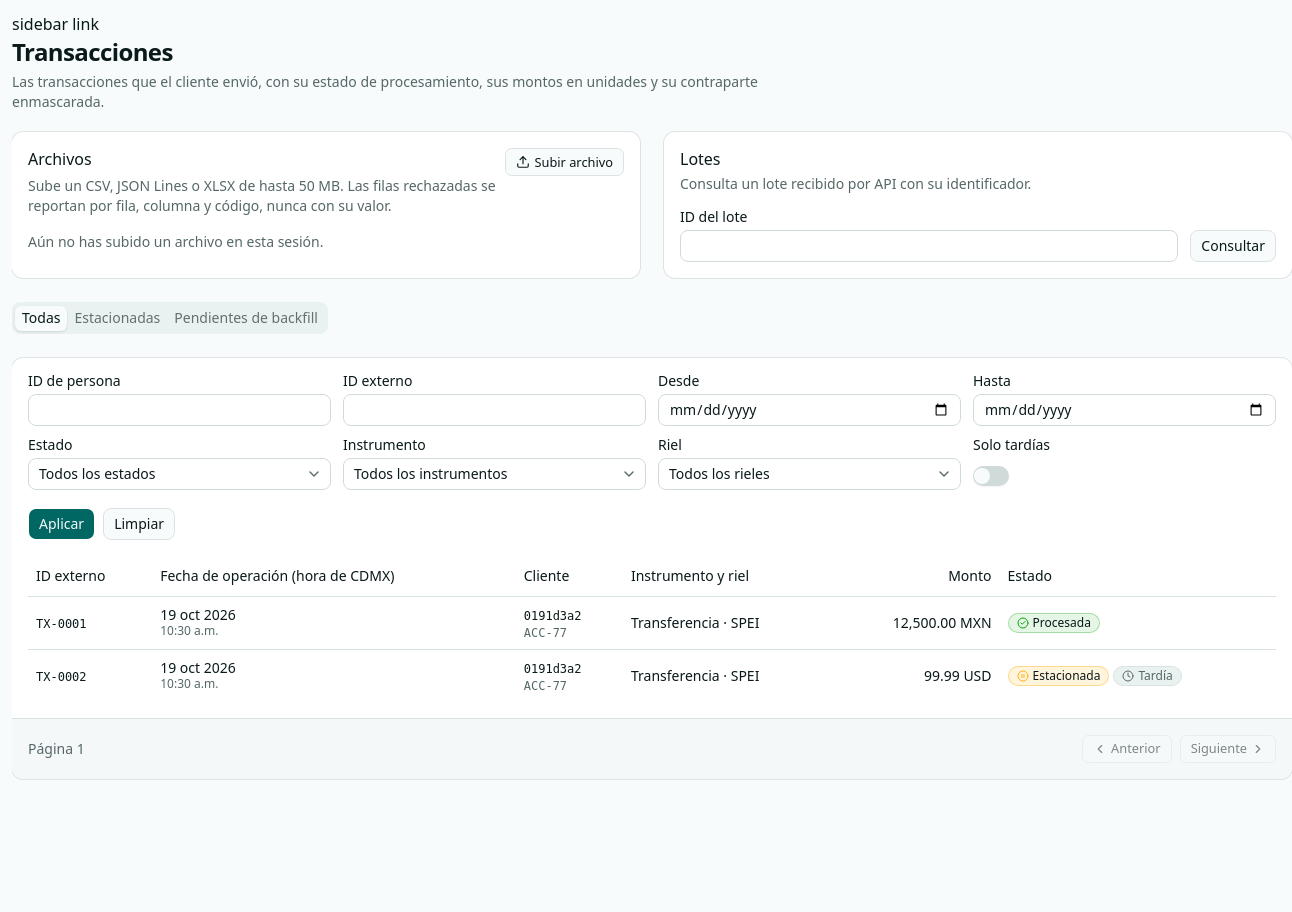
TransactionsPage › refuses a party id that is not a UUID without asking the API
This screenshot has width=1292, height=912.
Type "CLIENTE-1" into the field labelled "ID de persona" at (180, 410), box 28,394 -> 331,426
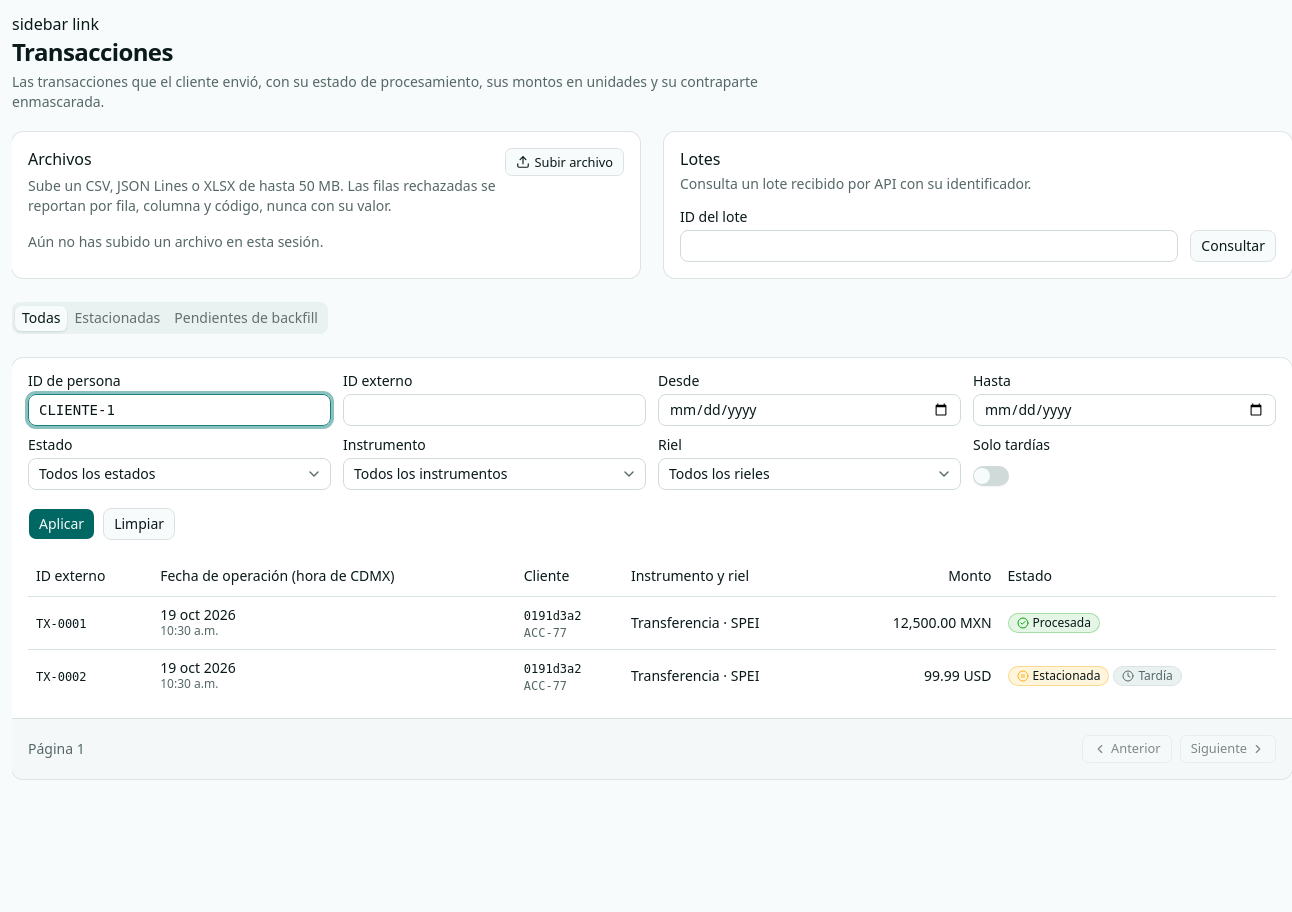
Click the button "Aplicar" at (62, 524), box 28,508 -> 95,540
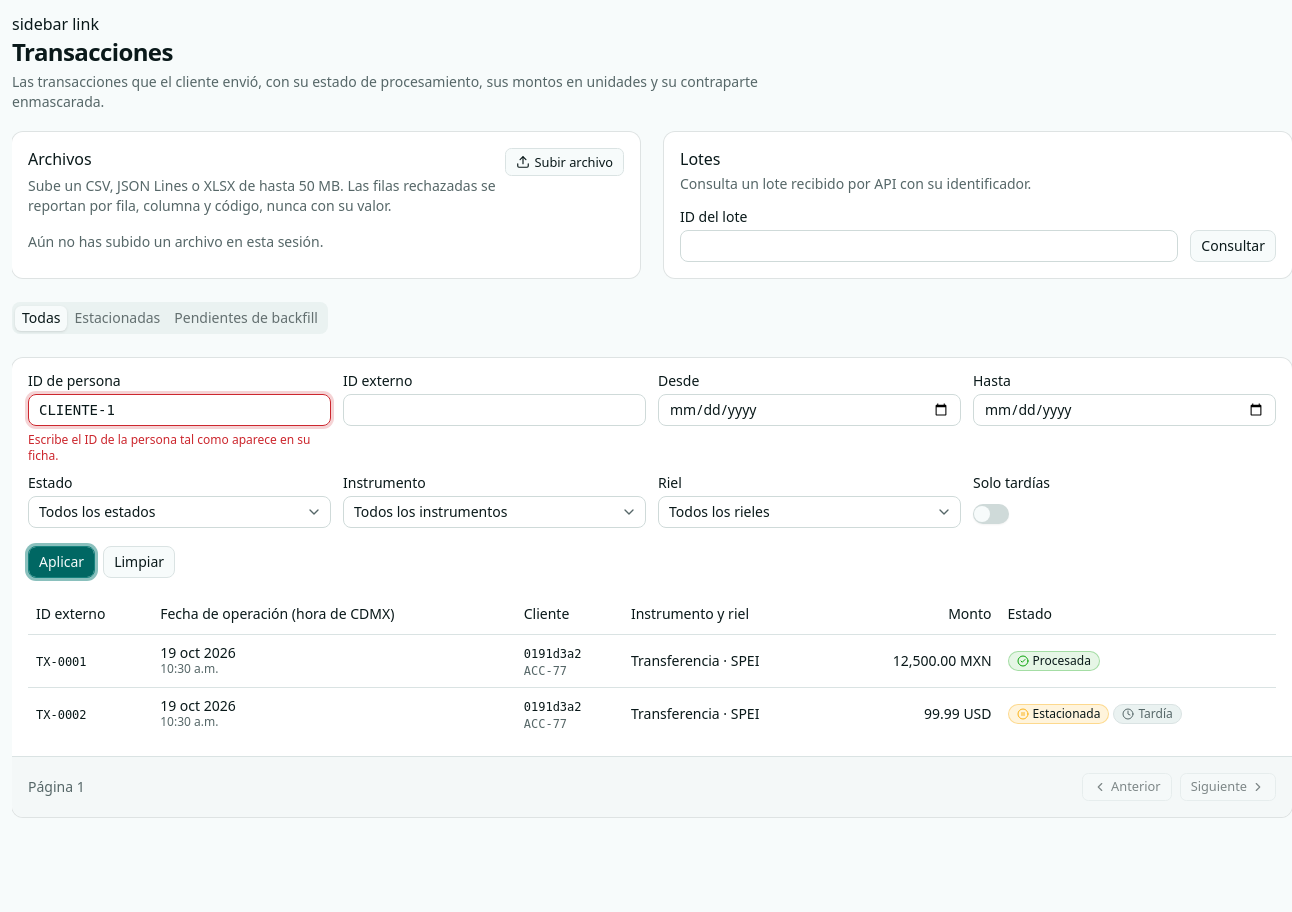
Expected: the text "Escribe el ID de la persona tal como aparece en su ficha." is shown, 28,432 -> 331,464
